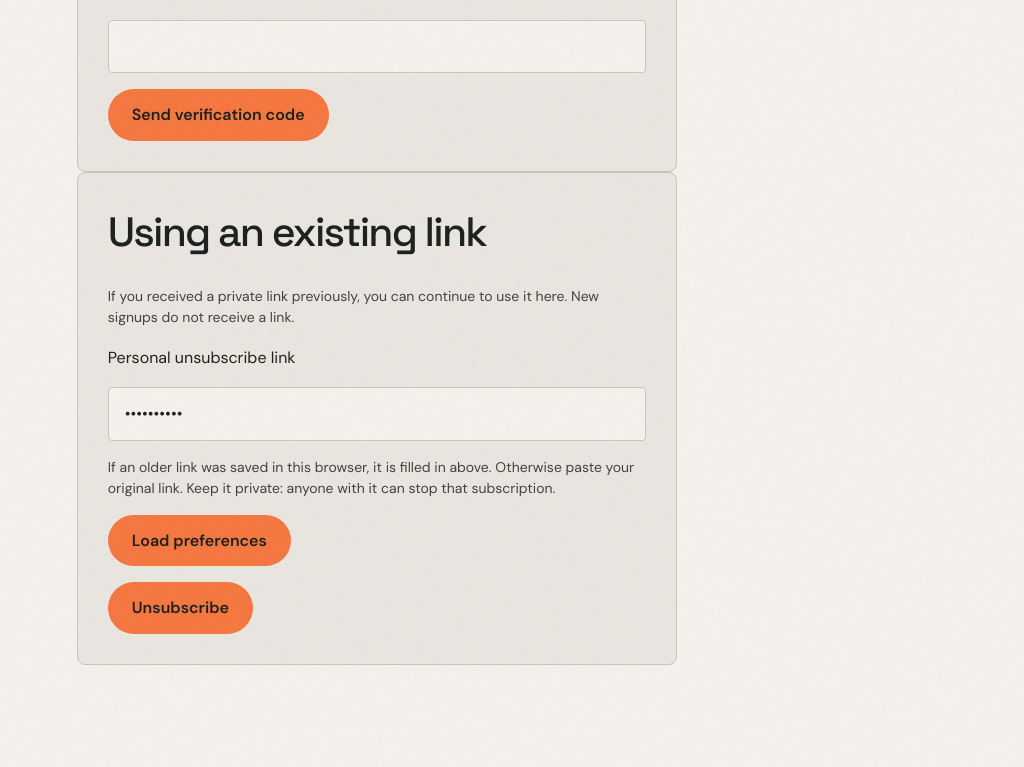
focuses an announced error for an invalid saved management link
This screenshot has width=1024, height=767.
(page scrolled)
Click the button "Load preferences" at (199, 540), box [108,515,291,566]
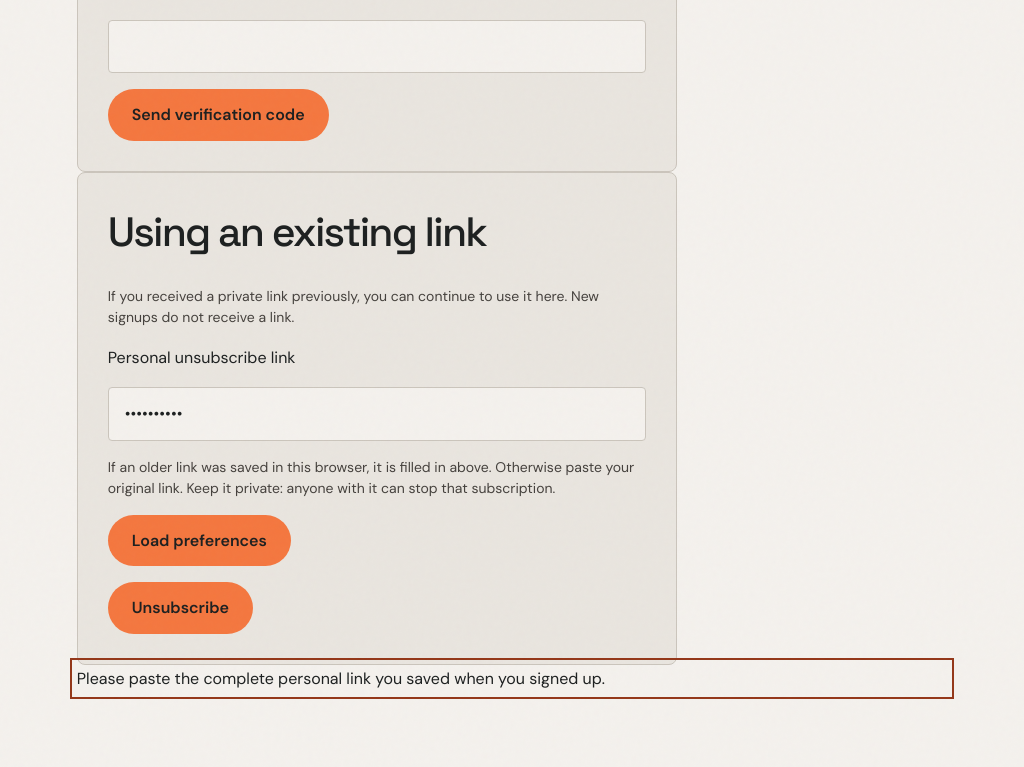
Result: the message shows "Please paste the complete personal link" at [77,668,605,689]
